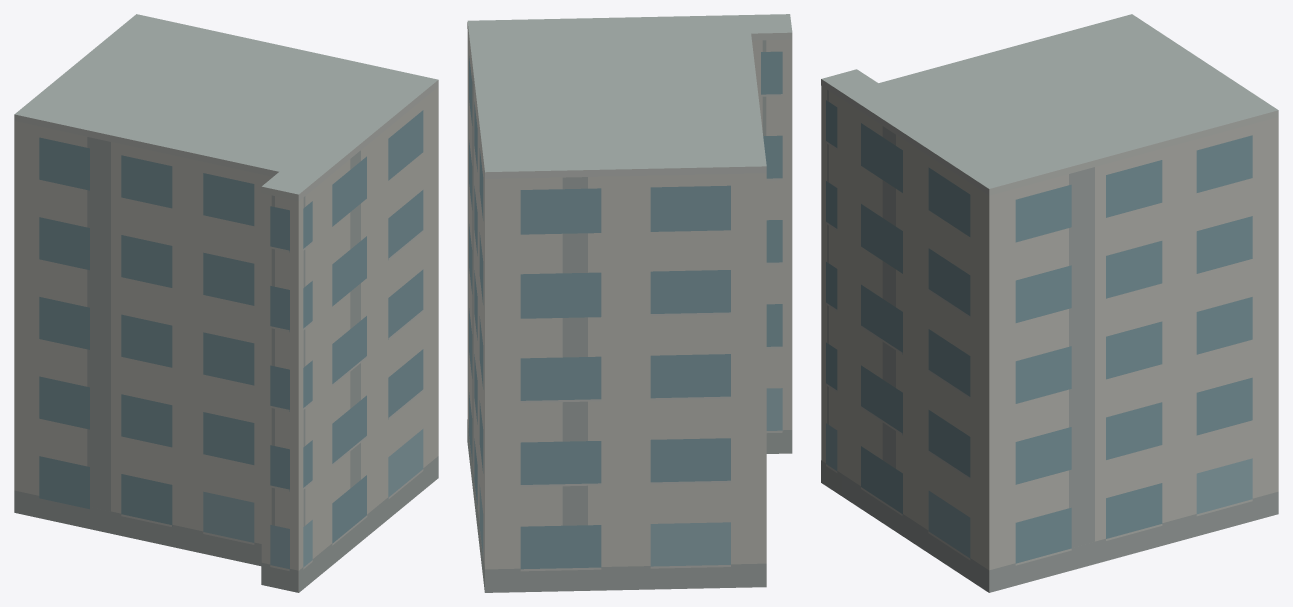
The model's file is residential-2375ce83-329a-458f-8c6d-4f6f727dc822.glb.
The picture shows the model from 3 angles, left to right: view 1: azimuth 30°, elevation 25°; view 2: azimuth 150°, elevation 25°; view 3: azimuth 270°, elevation 25°; orthographic projection. The views are drawn at different scales.
Visible parts, largest first — view 1: residential-2375ce83-329a-458f-8c6d-4f6f727dc822.tmp; view 2: residential-2375ce83-329a-458f-8c6d-4f6f727dc822.tmp; view 3: residential-2375ce83-329a-458f-8c6d-4f6f727dc822.tmp.
Part boxes in pixels (x1,y1,x2,y2): residential-2375ce83-329a-458f-8c6d-4f6f727dc822.tmp: (14, 14, 438, 592); residential-2375ce83-329a-458f-8c6d-4f6f727dc822.tmp: (467, 14, 792, 592); residential-2375ce83-329a-458f-8c6d-4f6f727dc822.tmp: (821, 14, 1278, 592).
Bounding box in the file's own units: 13.63 × 14.65 × 15.05.
